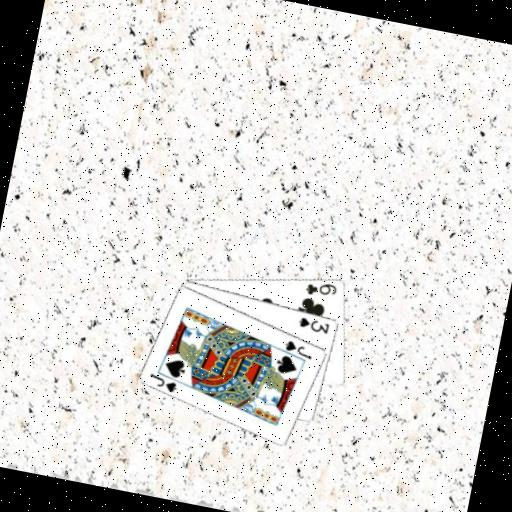3S: (295, 313, 333, 336)
6C: (302, 276, 340, 301)
JS: (280, 336, 316, 361), (145, 369, 181, 394)
